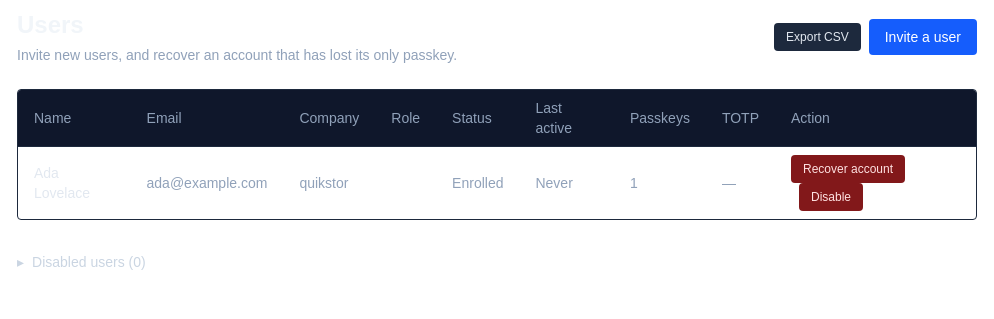
Test: Users page > disabled users › says so when there are no disabled users
The image size is (994, 319).
Step 1. Click the button "▸ Disabled users (0)" → click(81, 262), box [17,252,146,272]
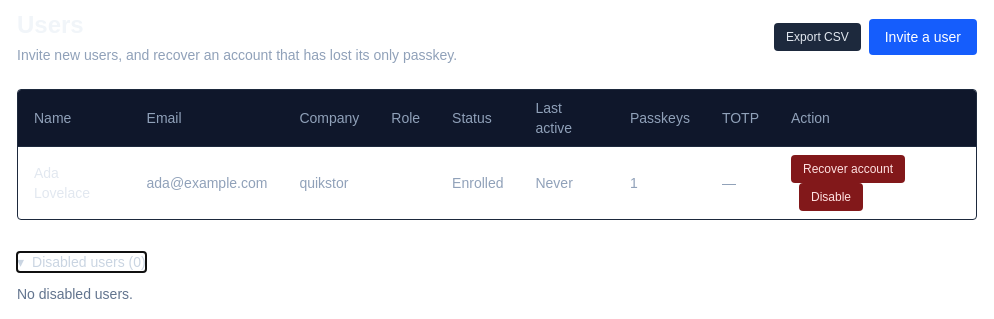
Expected: the text "No disabled users." is shown, [17,286,133,302]
